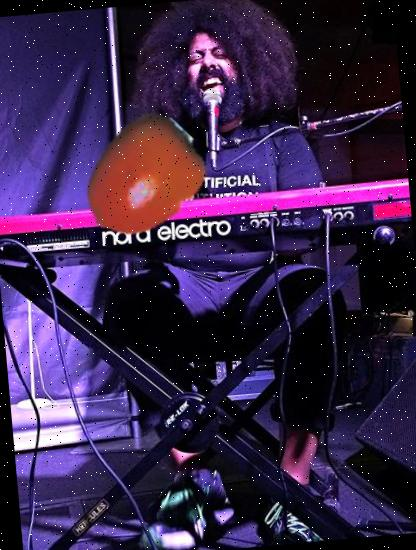Kaki: (74, 110, 213, 249)
